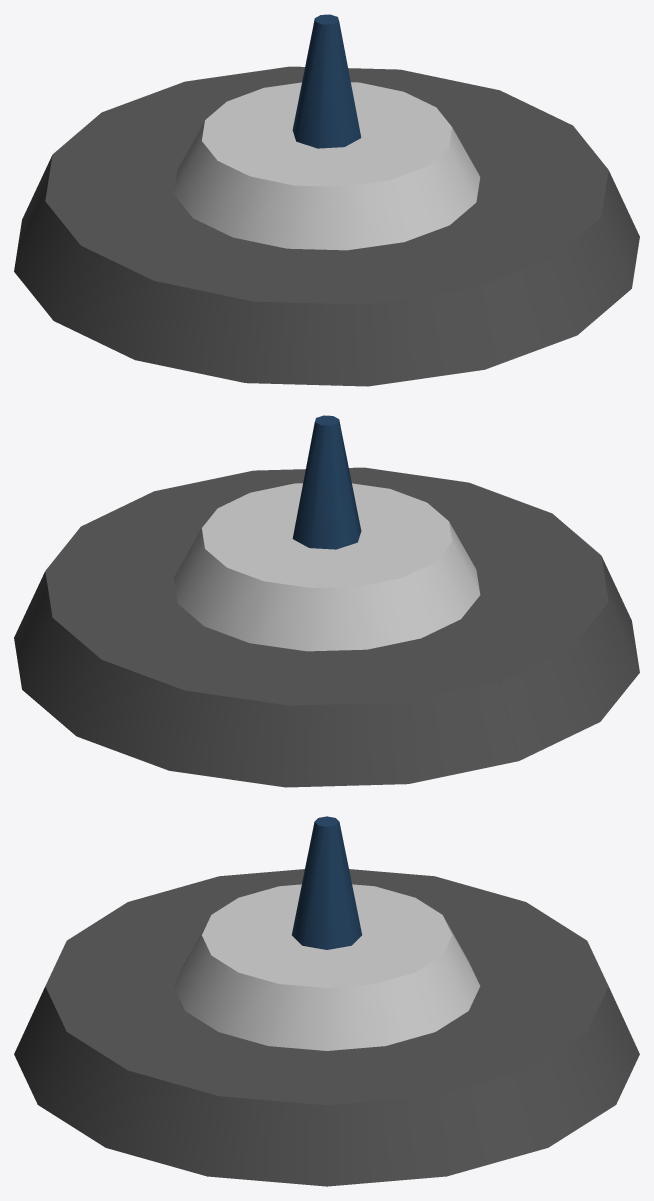
The model's file is park_fountain.glb.
3 views of the same model, one above another, from view 1: azimuth 30°, elevation 25°; view 2: azimuth 150°, elevation 25°; view 3: azimuth 270°, elevation 25° (orthographic).
Bounding box in the file's own units: 10 × 4.1 × 10.
